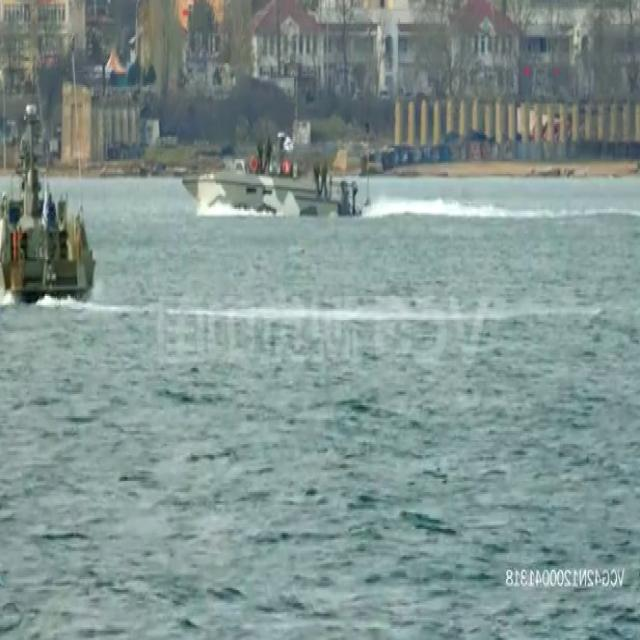houseboat: (0, 101, 97, 302), (189, 134, 365, 215)
